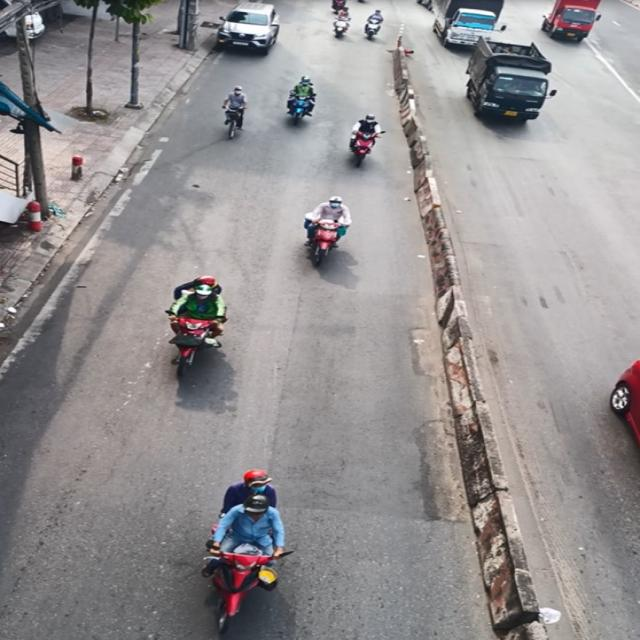motor: (174, 468, 313, 640), (159, 271, 238, 388), (294, 184, 359, 280)
truck: (452, 32, 562, 130)
